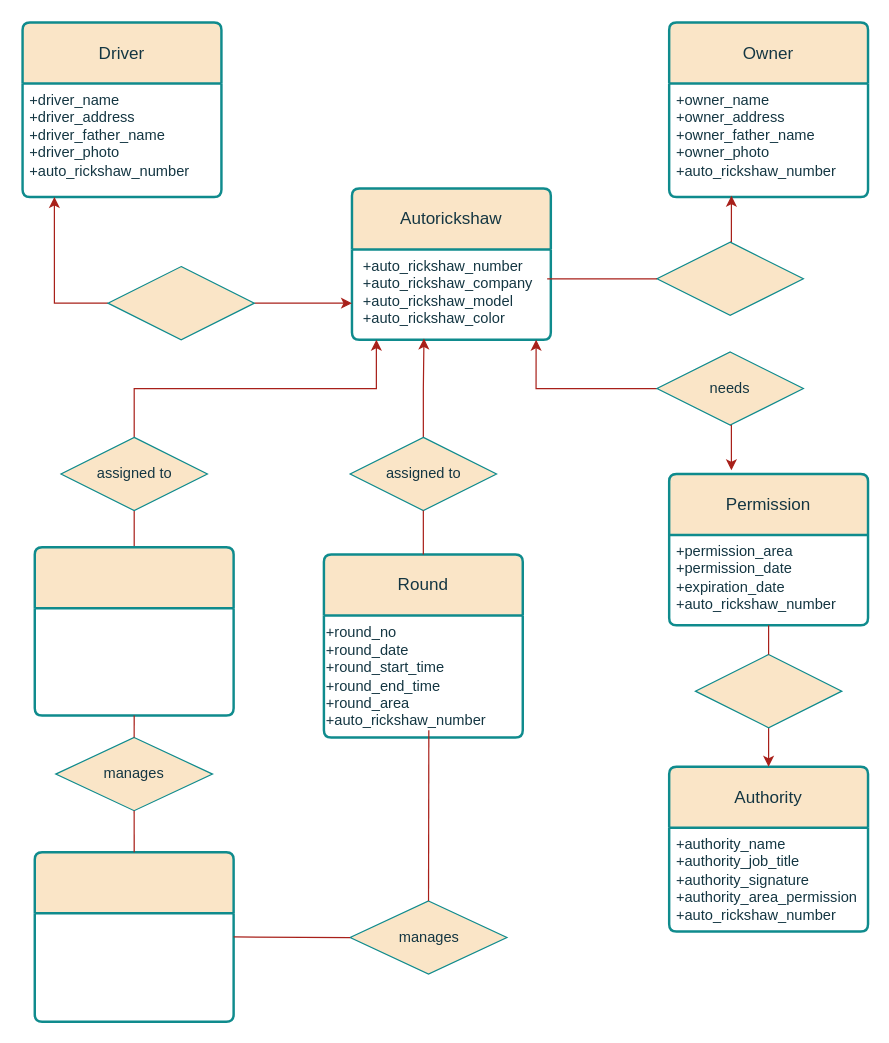
Image size: 889x1043. Some labels were removed from this diagram. Each missing label, with the centre of its shape:
"drives" belongs at [180,302].
"gives" belongs at [768,690].
"Manager" belongs at [133,936].
"owns" belongs at [729,278].
"Serial +serial_no +serial_time +serial_status +auto_rickshaw_number" belongs at [133,630].
